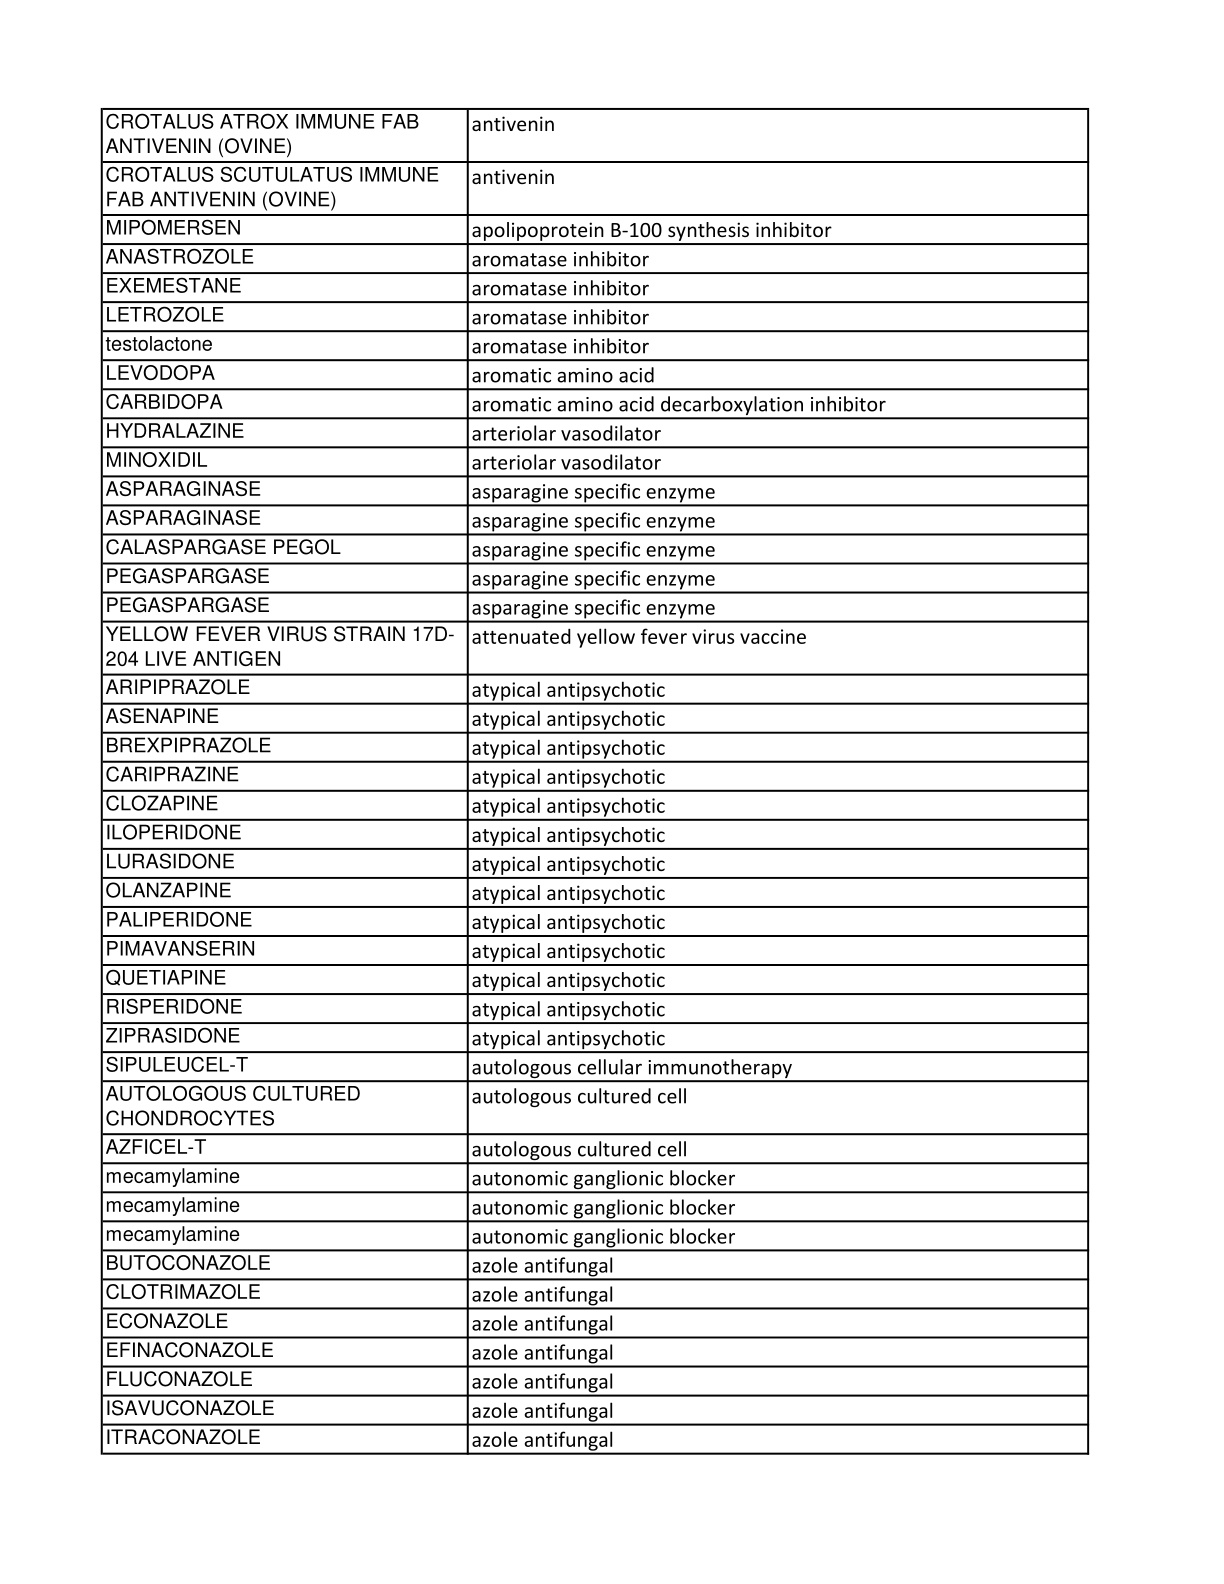full_lined: (100, 108, 1090, 1455)
